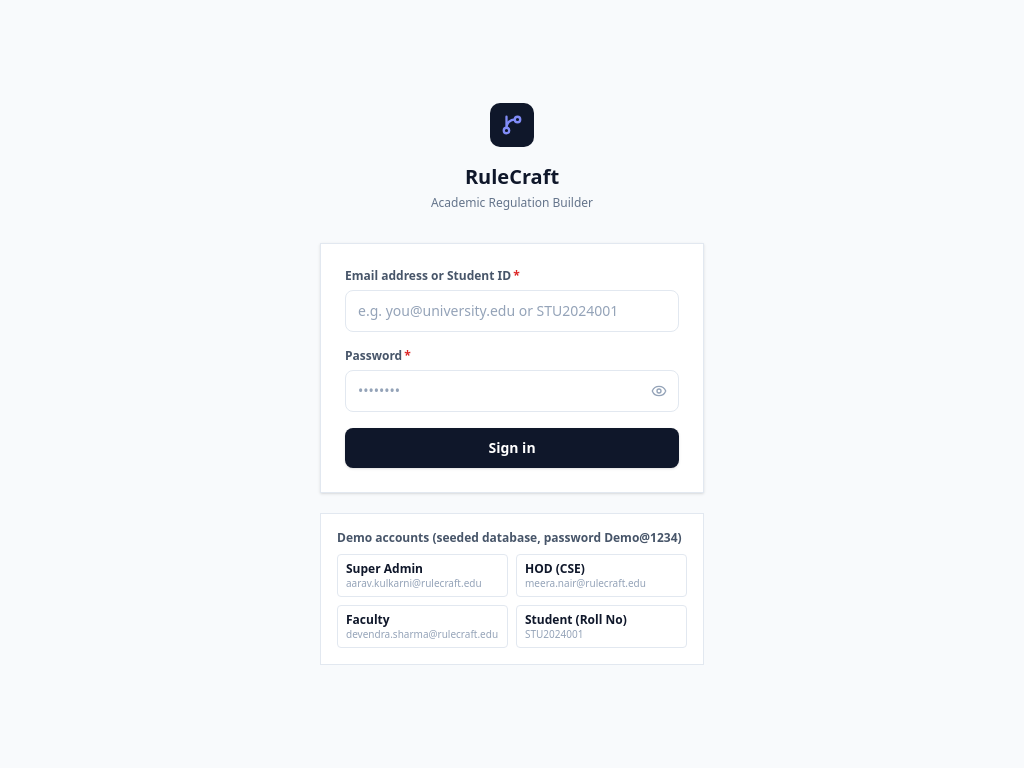
Test case: App › logs in with a demo account and reaches the dashboard
The image size is (1024, 768).
Expected: the button "Sign in" is shown, [345,428,679,468]
Click the button "Super Admin aarav.kulkarni@rulecraft.edu". click: (422,575)
box: [337,554,508,597]
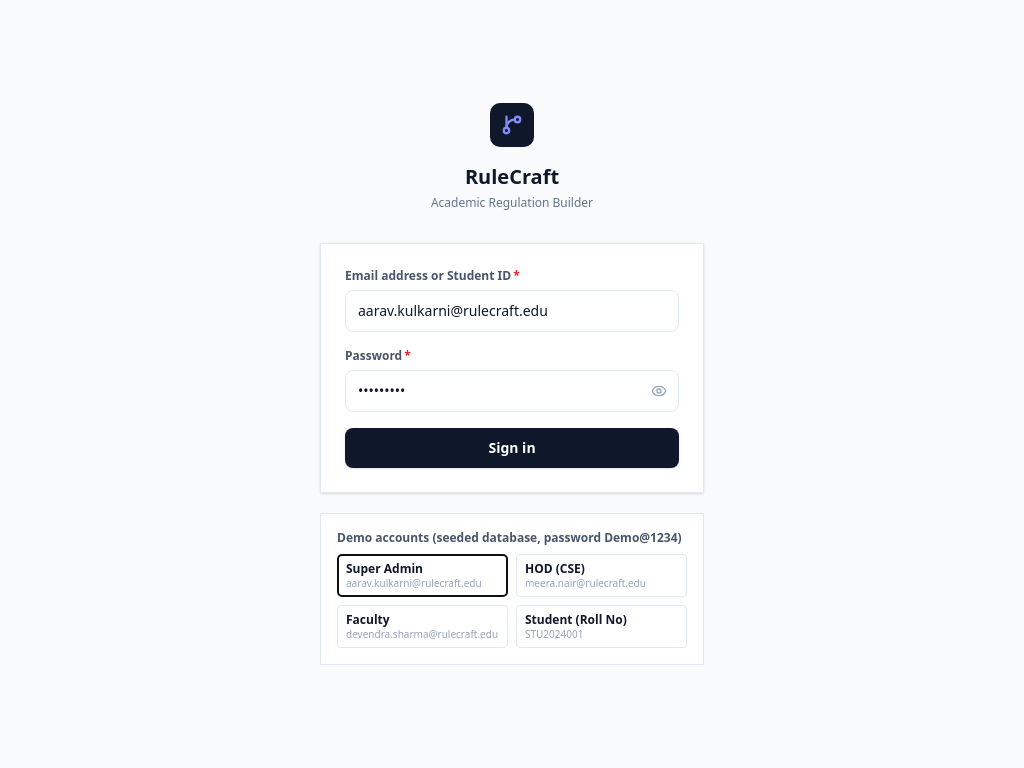
Click the button "Sign in". click: (512,448)
box: [345,428,679,468]
(page scrolled)
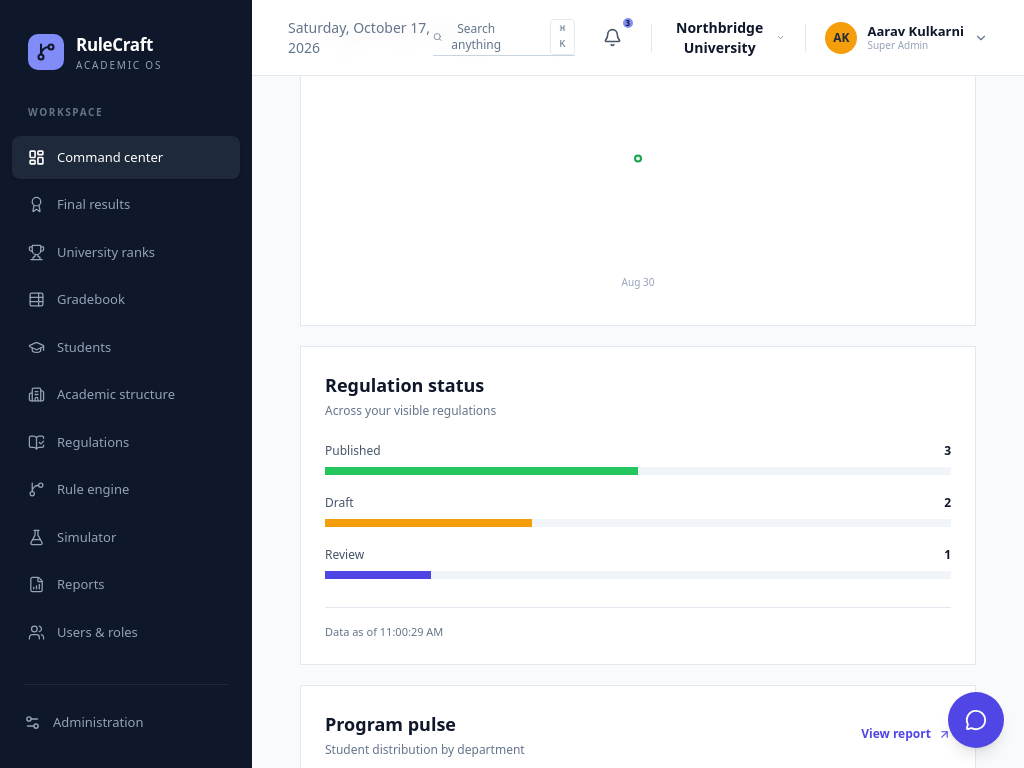
Now the heading "Regulation status" is shown, box [325,370,496,398]
